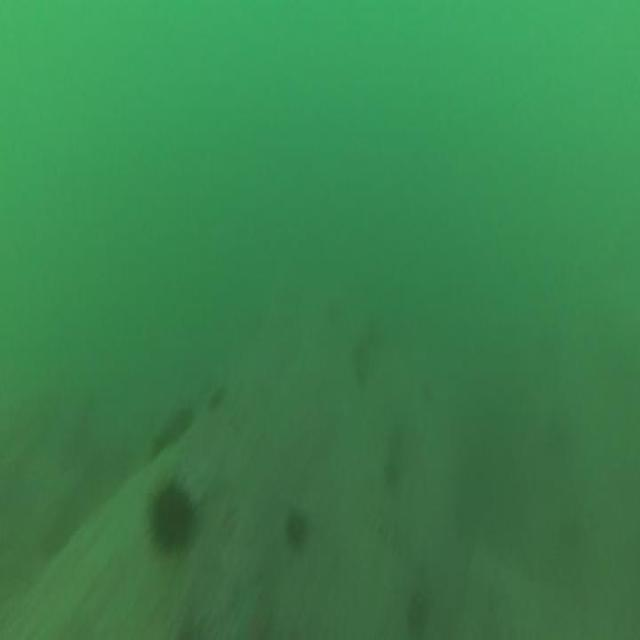echinus: (145, 476, 198, 561), (146, 398, 194, 460), (281, 504, 311, 558), (404, 596, 432, 640), (350, 339, 371, 388), (381, 453, 404, 490), (206, 376, 228, 414)
